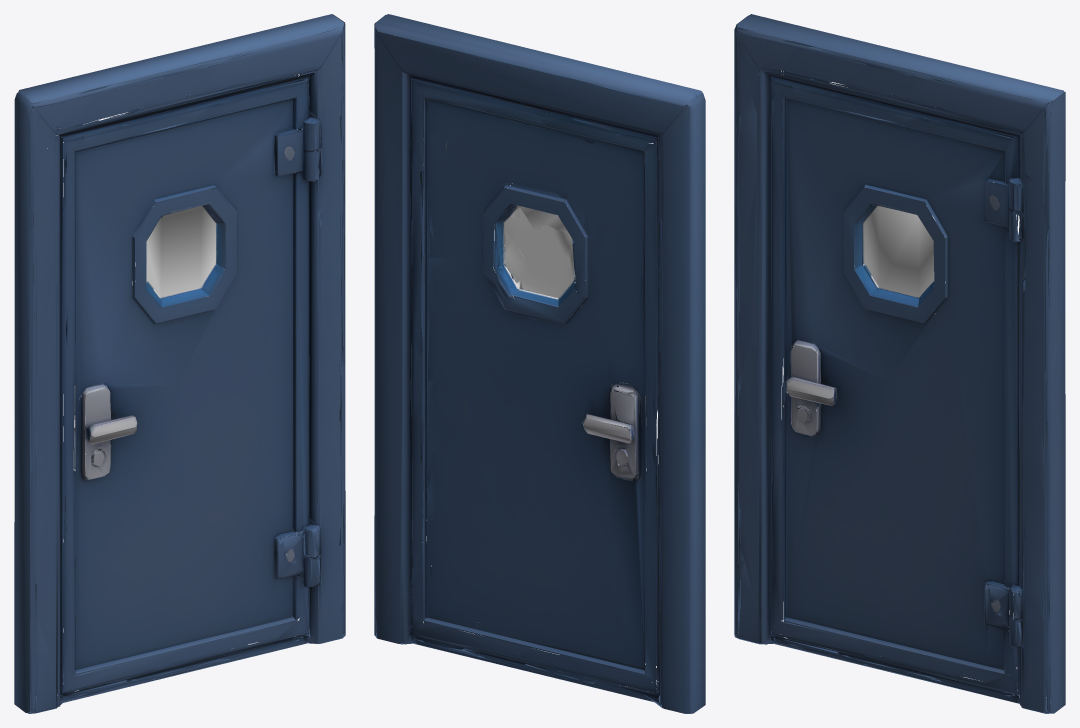
File: door.glb
The picture shows the model from 3 angles, left to right: view 1: azimuth 30°, elevation 25°; view 2: azimuth 150°, elevation 25°; view 3: azimuth 330°, elevation 25°; orthographic projection.
Visible parts, largest first — view 1: Industrial_door; view 2: Industrial_door; view 3: Industrial_door.
Boxes of the visible parts, x1,y1,x2,y2 form: Industrial_door: (14,14,345,713); Industrial_door: (374,14,705,713); Industrial_door: (734,14,1065,713).
Bounding box in the file's own units: 1.2 × 2.2 × 0.1601.
1 material, 1 textured.
